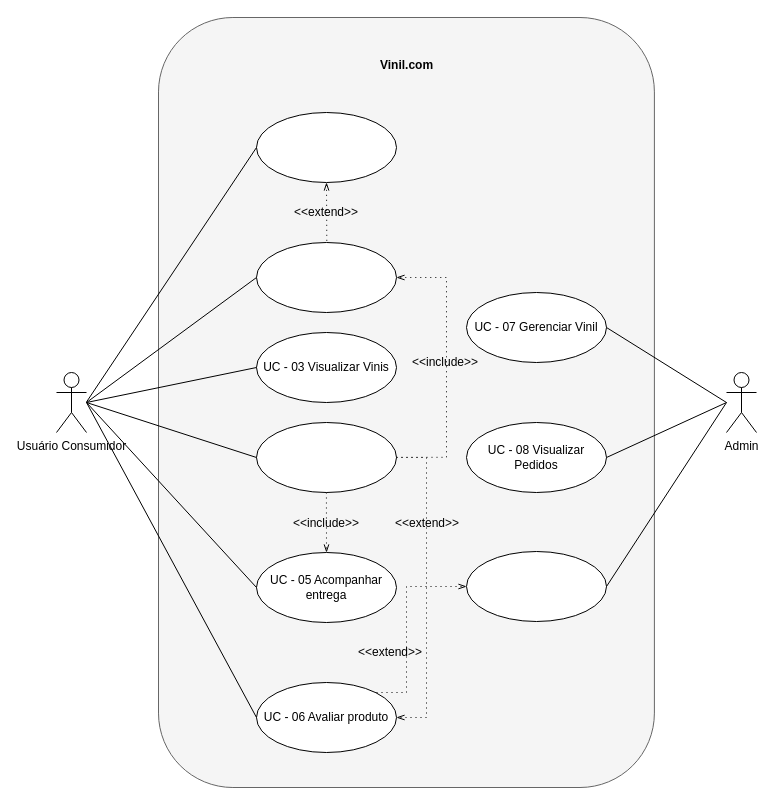
This 776x805 diagram has some shape labels left out. Here are the shapes that lost their labels. From the top down, the centre of each, then its label:
At point 326,147: "UC - 01 Realizar Cadastro".
At point 326,277: "UC - 02 Realizar Login".
At point 326,457: "UC - 04 Comprar um Vinil".
At point 536,586: "UC - 09 Responde avaliação por email".
